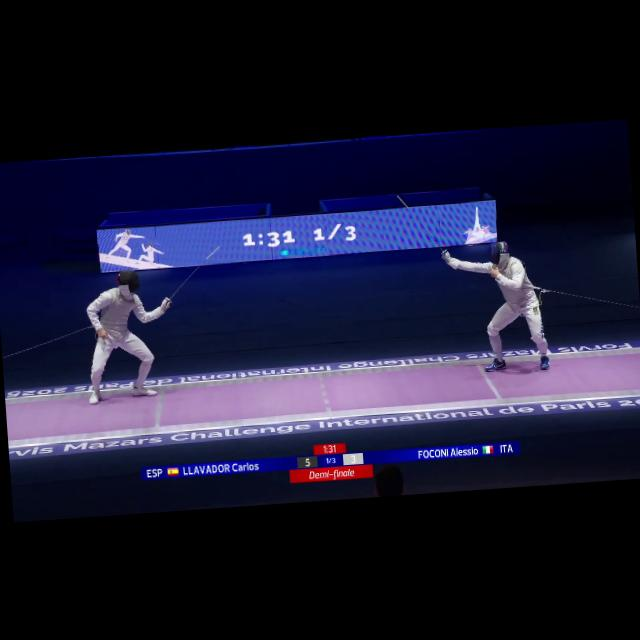blade: (159, 240, 228, 310), (392, 186, 454, 263)
